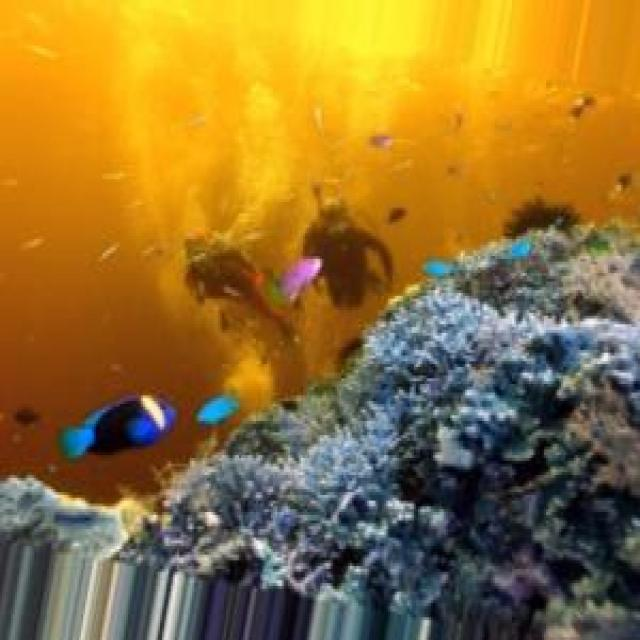Healthy: (155, 365, 406, 581), (438, 322, 640, 479), (415, 223, 640, 328), (338, 291, 515, 411)
